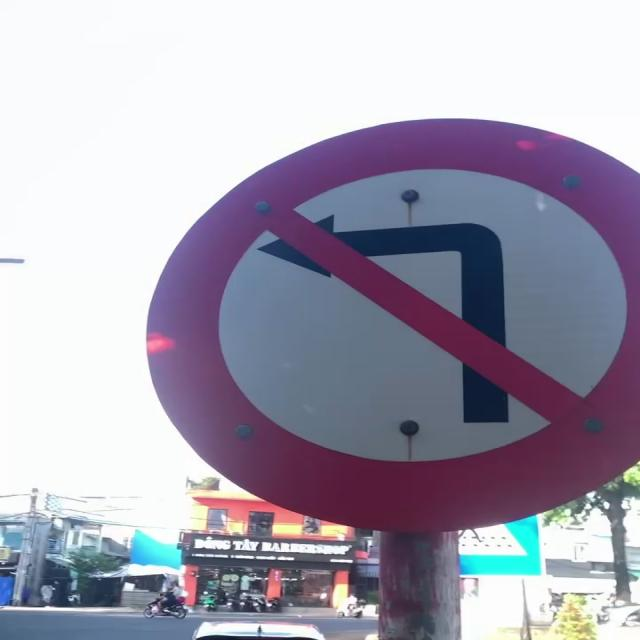Cam_Re_Trai: (143, 111, 639, 545)
